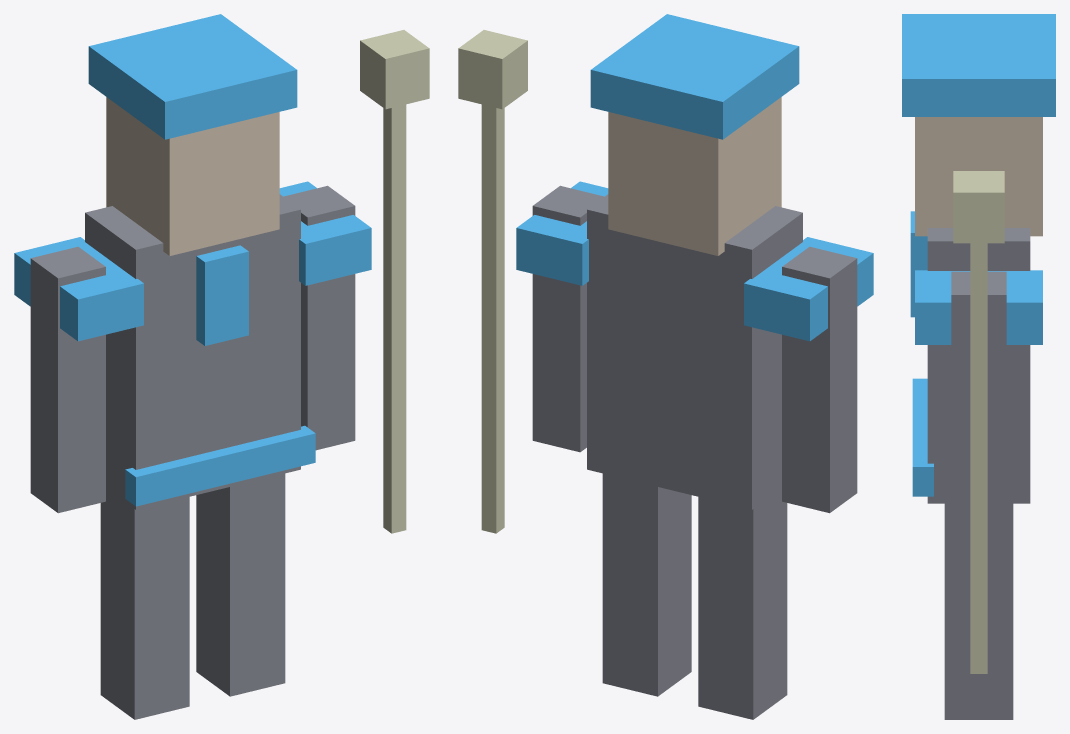
The model's file is 07_astra_glassroot_broker_under_power.glb.
The picture shows the model from 3 angles, left to right: view 1: azimuth 30°, elevation 25°; view 2: azimuth 150°, elevation 25°; view 3: azimuth 270°, elevation 25°; orthographic projection.
Parts seen in each view (by area): view 1: Astra Glassroot, Broker under Power; view 2: Astra Glassroot, Broker under Power; view 3: Astra Glassroot, Broker under Power.
Boxes of the visible parts, bbox=[...] form: Astra Glassroot, Broker under Power: bbox=[14, 14, 429, 719]; Astra Glassroot, Broker under Power: bbox=[458, 14, 873, 719]; Astra Glassroot, Broker under Power: bbox=[902, 14, 1055, 719].
Bounding box in the file's own units: 1.05 × 1.71 × 0.3738.
